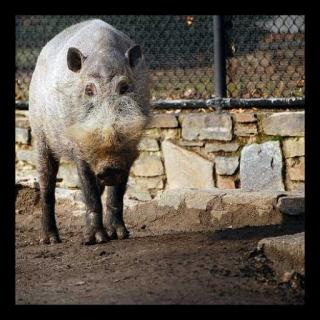Pig: (17, 4, 194, 242)
